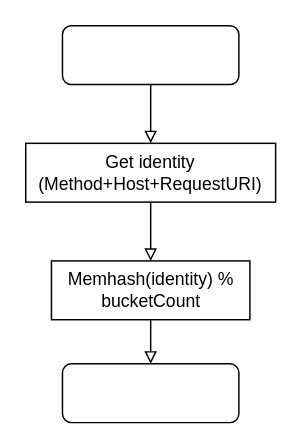
This 301x448 diagram has some shape labels left out. The box of each missing label's shape, as (x1, y1, x2, y2) in pixels:
Cache dispatch: (61, 24, 239, 85)
Get http cache from cache bucket: (61, 362, 239, 423)
